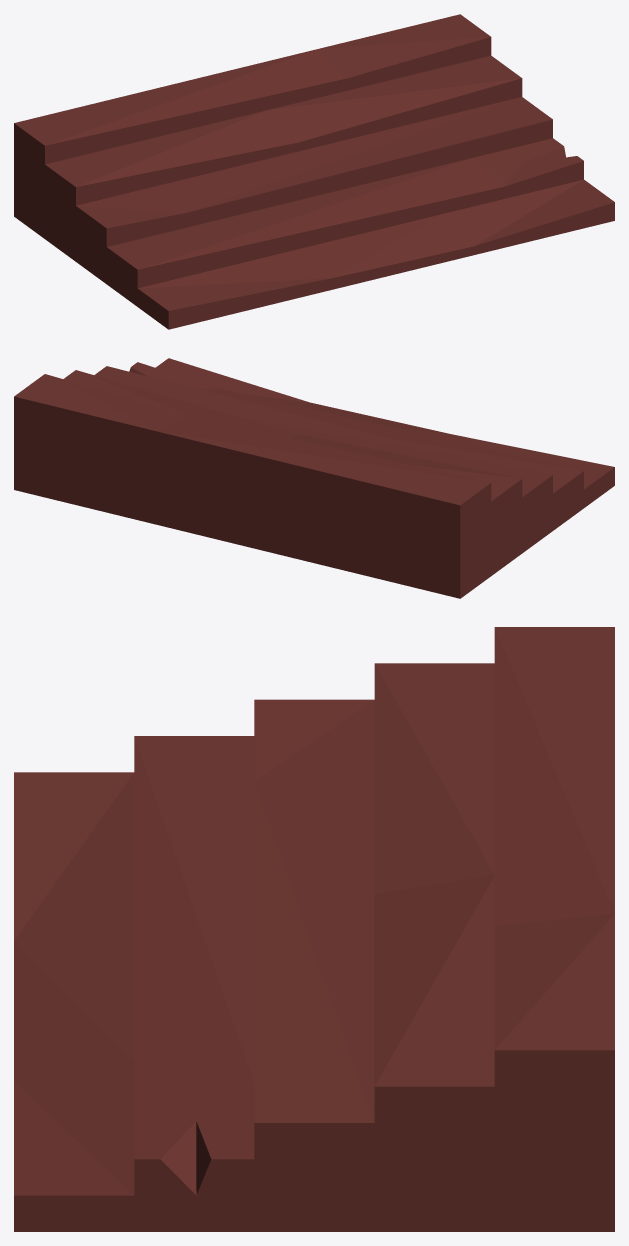
The model's file is Ruin_7_Red.fbx.
3 views of the same model, one above another, from view 1: azimuth 30°, elevation 25°; view 2: azimuth 150°, elevation 25°; view 3: azimuth 270°, elevation 25° (orthographic). The views are drawn at different scales.
Visible parts, largest first — view 1: Ruin_7_Red; view 2: Ruin_7_Red; view 3: Ruin_7_Red.
Boxes of the visible parts, bbox=[...] form: Ruin_7_Red: bbox=[14, 14, 614, 329]; Ruin_7_Red: bbox=[14, 358, 614, 598]; Ruin_7_Red: bbox=[14, 627, 614, 1231].
Size of the model in its own units: 500 by 100 by 300.
